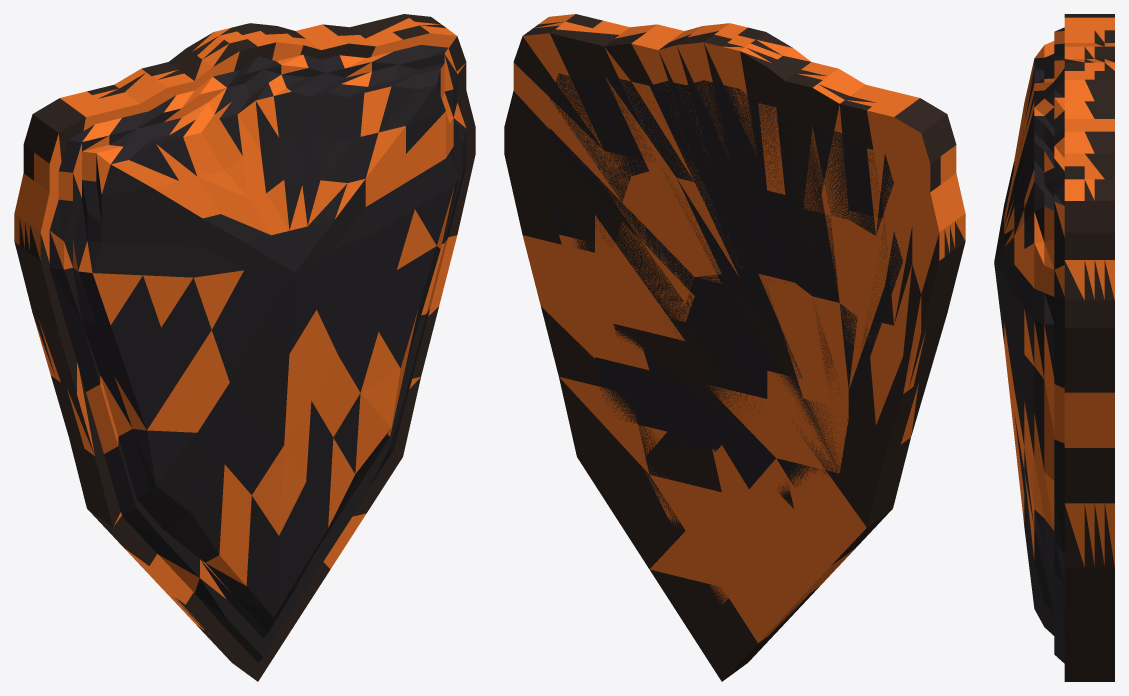
The model's file is B06_6_magma_kiteshield.obj.
3 views of the same model, side by side, from view 1: azimuth 30°, elevation 25°; view 2: azimuth 150°, elevation 25°; view 3: azimuth 270°, elevation 25° (orthographic). The views are drawn at different scales.
Parts seen in each view (by area): view 1: B06_6_magma_kiteshield; view 2: B06_6_magma_kiteshield; view 3: B06_6_magma_kiteshield.
Boxes of the visible parts, bbox=[...] form: B06_6_magma_kiteshield: bbox=[14, 14, 475, 681]; B06_6_magma_kiteshield: bbox=[504, 14, 965, 681]; B06_6_magma_kiteshield: bbox=[994, 14, 1114, 681].
Bounding box in the file's own units: 48 × 67 × 12.
